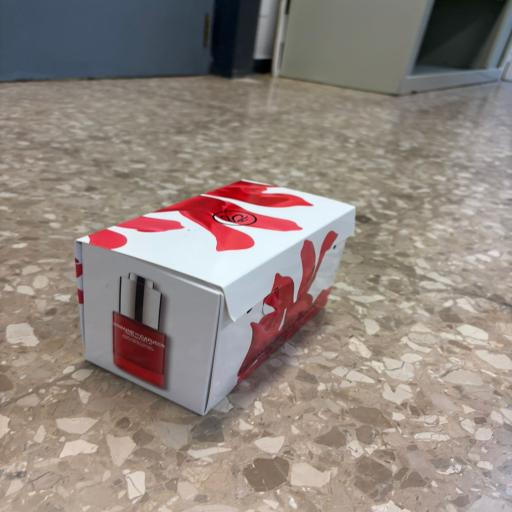caja_2: (75, 180, 355, 414)
